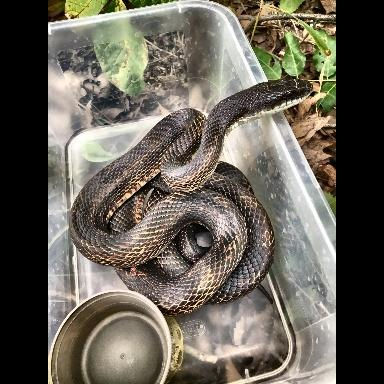snake: (69, 76, 313, 317)
